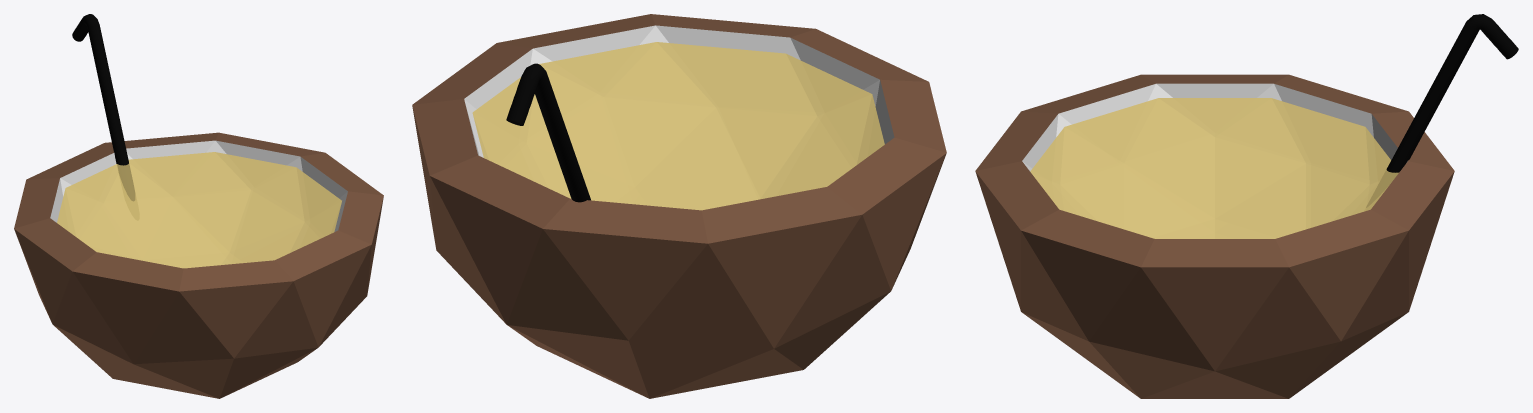
File: Pina Colada.glb
The picture shows the model from 3 angles, left to right: view 1: azimuth 30°, elevation 25°; view 2: azimuth 150°, elevation 25°; view 3: azimuth 270°, elevation 25°; orthographic projection. The views are drawn at different scales.
Visible parts, largest first — view 1: Pina Colada.001; view 2: Pina Colada.001; view 3: Pina Colada.001.
Part boxes in pixels (x1,y1,x2,y2): Pina Colada.001: [14, 14, 383, 398]; Pina Colada.001: [412, 14, 946, 398]; Pina Colada.001: [975, 14, 1518, 398].
Size of the model in its own units: 1.14 by 0.9355 by 1.36.
